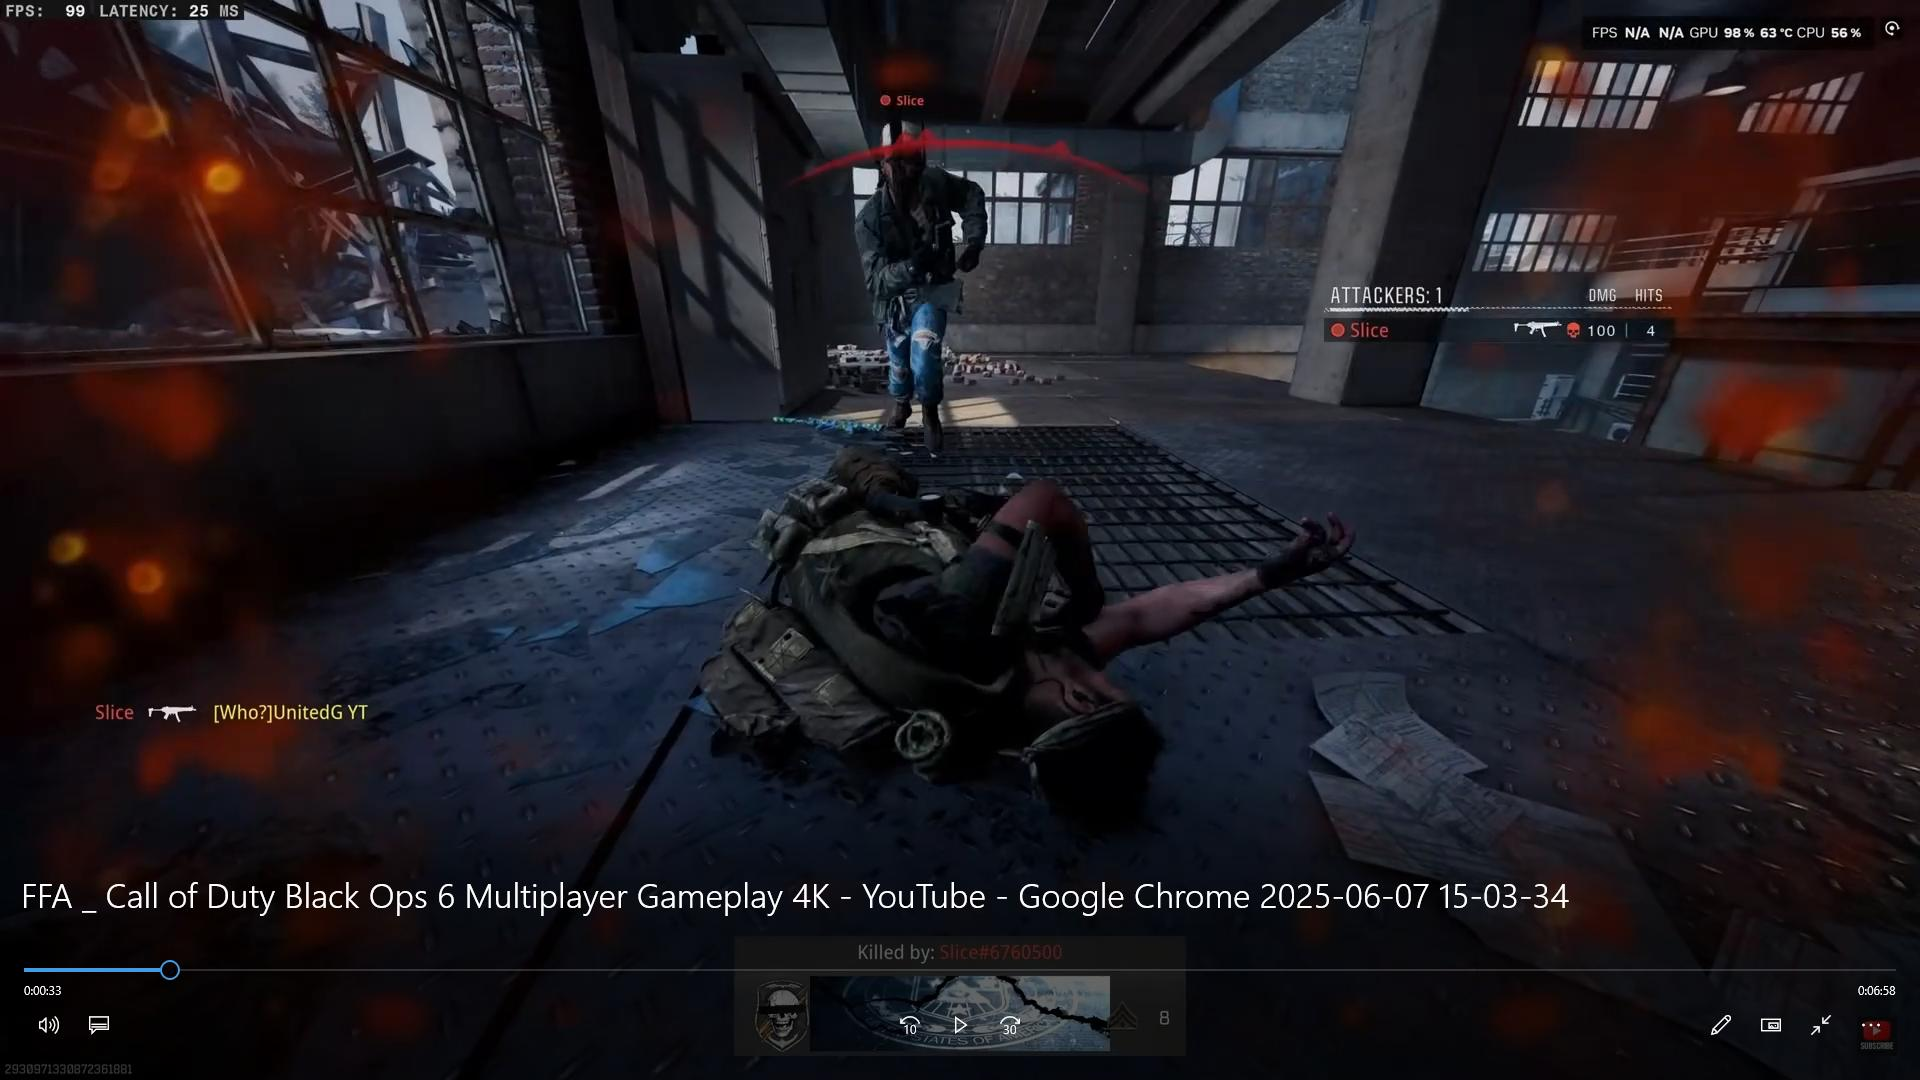Enemy: (843, 119, 990, 447)
